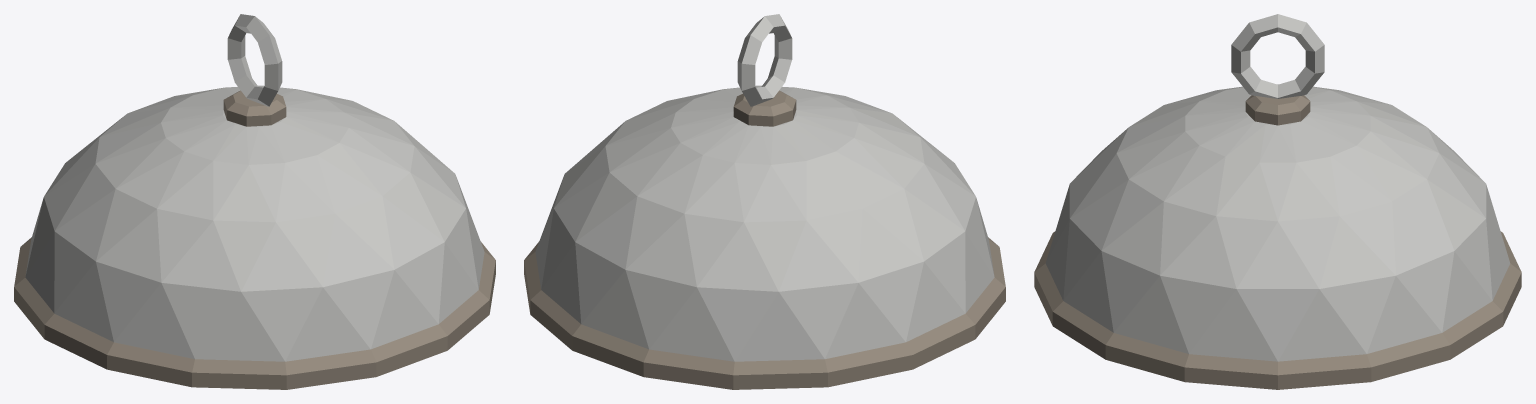
The model's file is krishka.glb.
The picture shows the model from 3 angles, left to right: view 1: azimuth 30°, elevation 25°; view 2: azimuth 150°, elevation 25°; view 3: azimuth 270°, elevation 25°; orthographic projection.
Parts seen in each view (by area): view 1: cloche; view 2: cloche; view 3: cloche.
Part boxes in pixels (x1,y1,x2,y2): cloche: [14, 14, 495, 389]; cloche: [524, 14, 1005, 389]; cloche: [1034, 14, 1521, 389].
Size of the model in its own units: 0.3 by 0.1854 by 0.3.
